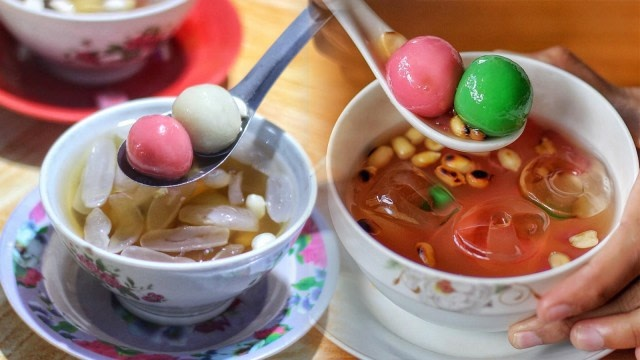ronde: (384, 34, 531, 137), (130, 81, 243, 178)
